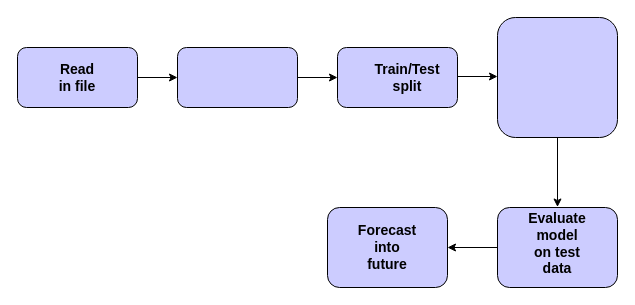
This 635x305 diagram has some shape labels left out. The centre of each missing label's shape, as x and y in pixels:
"choose and fit model on train data" belongs at point (557, 77).
"Data Cleaning" belongs at point (237, 77).
